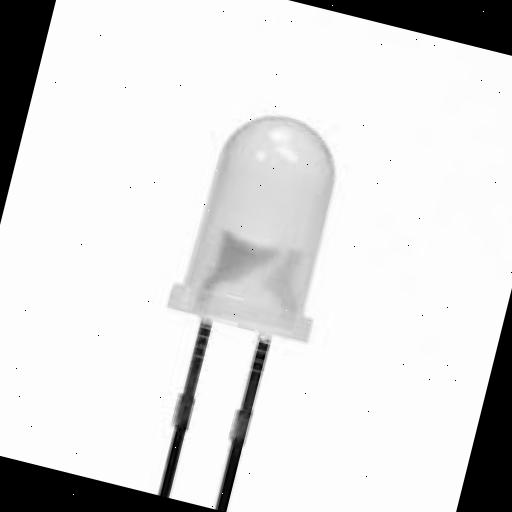LED: (62, 38, 483, 512)
